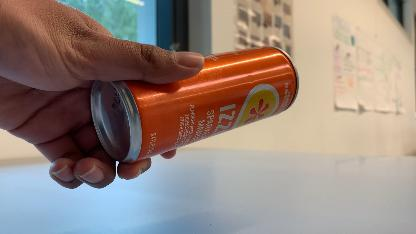Can: (80, 44, 302, 166)
